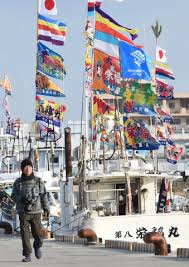Japanese Flag: (153, 44, 171, 64), (38, 1, 59, 15)
